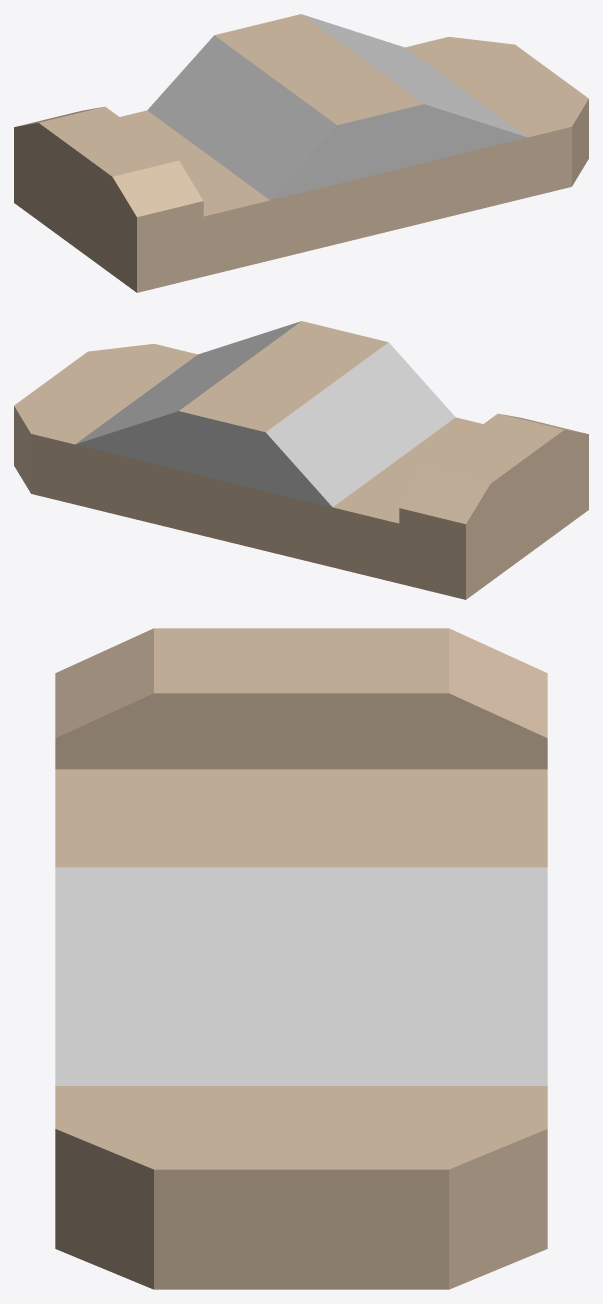
Rendered from sportcar1.obj.
3 renders of one model, top to bottom at view 1: azimuth 30°, elevation 25°; view 2: azimuth 150°, elevation 25°; view 3: azimuth 270°, elevation 25°, orthographic. The views are drawn at different scales.
Visible parts, largest first — view 1: Cube1_default, Cube1_Cube1_auv; view 2: Cube1_default, Cube1_Cube1_auv; view 3: Cube1_default, Cube1_Cube1_auv.
Part boxes in pixels (box(x1,y1,x2,y2)): Cube1_default: box(14, 14, 588, 292); Cube1_Cube1_auv: box(147, 14, 527, 200); Cube1_default: box(14, 321, 588, 599); Cube1_Cube1_auv: box(75, 321, 455, 507); Cube1_default: box(55, 628, 547, 1289); Cube1_Cube1_auv: box(55, 867, 547, 1085).
Bounding box in the file's own units: 4.47 × 1.07 × 2.
